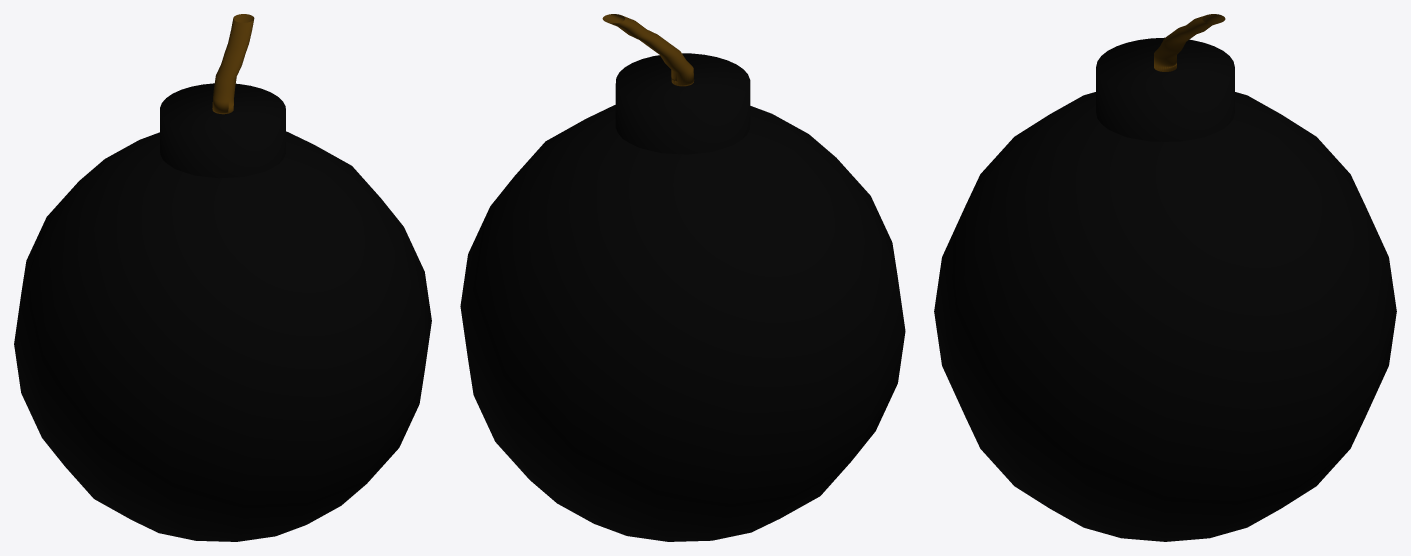
The model's file is bakudan2.fbx.
3 views of the same model, side by side, from view 1: azimuth 30°, elevation 25°; view 2: azimuth 150°, elevation 25°; view 3: azimuth 270°, elevation 25° (orthographic). The views are drawn at different scales.
Visible parts, largest first — view 1: 球; view 2: 球; view 3: 球.
Boxes of the visible parts, x1,y1,x2,y2 form: 球: [14, 14, 431, 541]; 球: [460, 14, 905, 541]; 球: [934, 14, 1396, 541].
Size of the model in its own units: 200 by 250 by 200.
